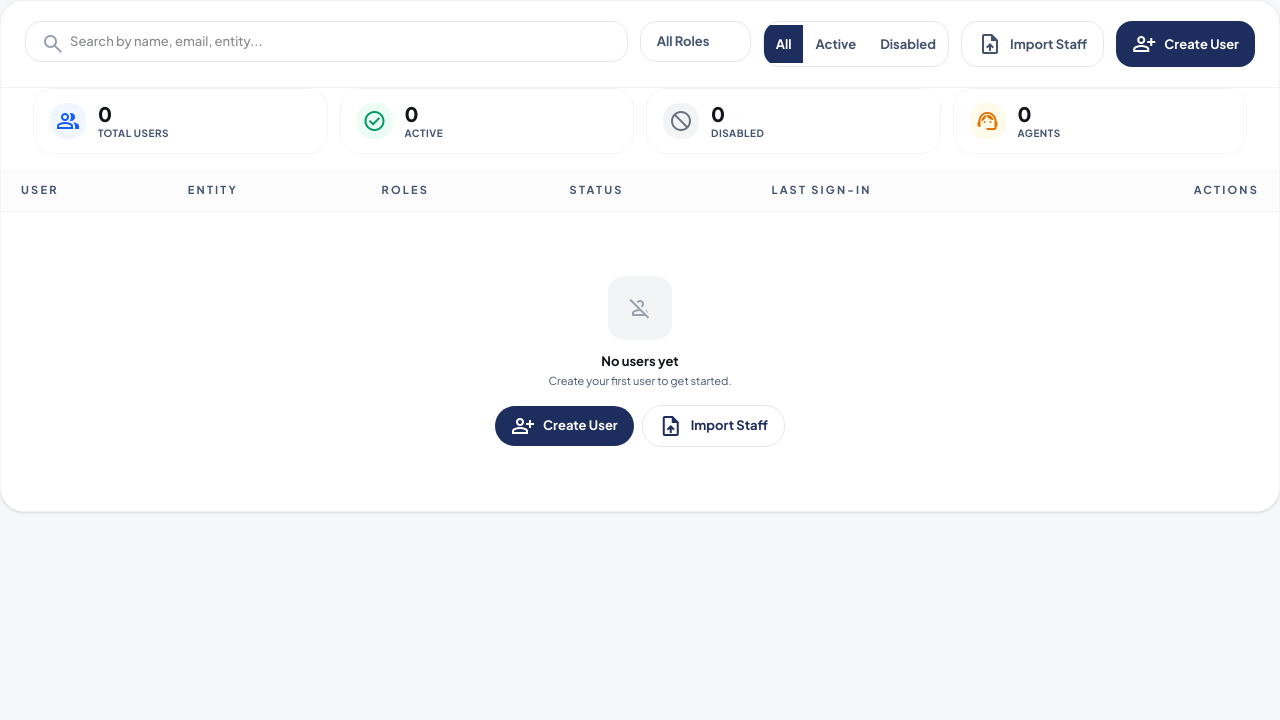
it: UserAccountsTab › does not issue a remote search for a one-character query
The image size is (1280, 720).
Type "a" into the field named "search user accounts".
click(326, 41); type("a")  # box [25, 21, 628, 62]
Wait 300 ms
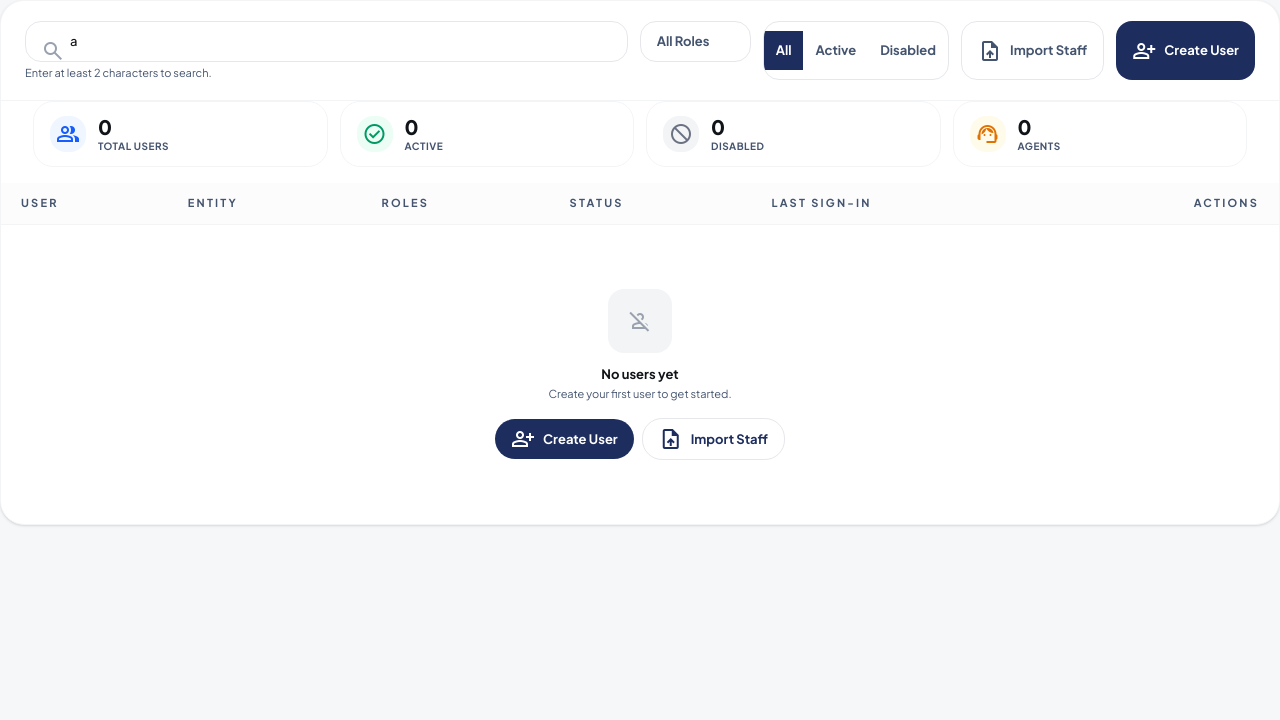
Expected: the text "Enter at least 2 characters to search." is shown, [25, 66, 212, 79]
